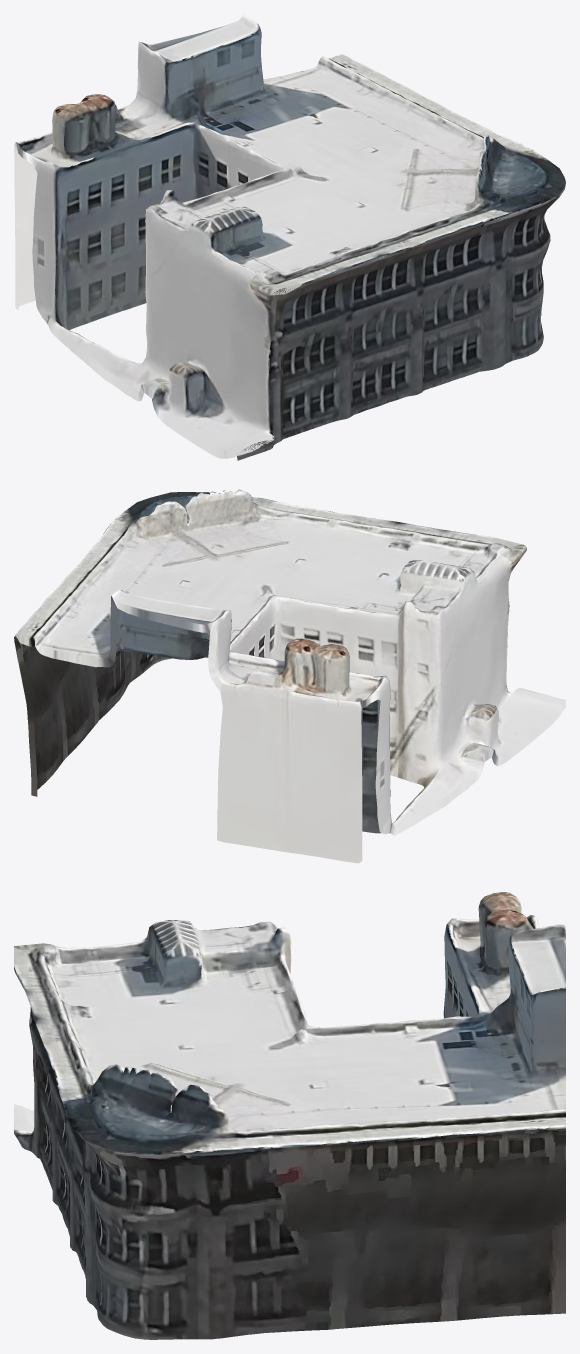
File: z20-167747-405251-h1-yup-uvflip-v3-world.glb
3 views of the same model, one above another, from view 1: azimuth 30°, elevation 25°; view 2: azimuth 150°, elevation 25°; view 3: azimuth 270°, elevation 25° (orthographic). The views are drawn at different scales.
Bounding box in the file's own units: 30.16 × 17.32 × 30.32.
1 material, 1 textured.
